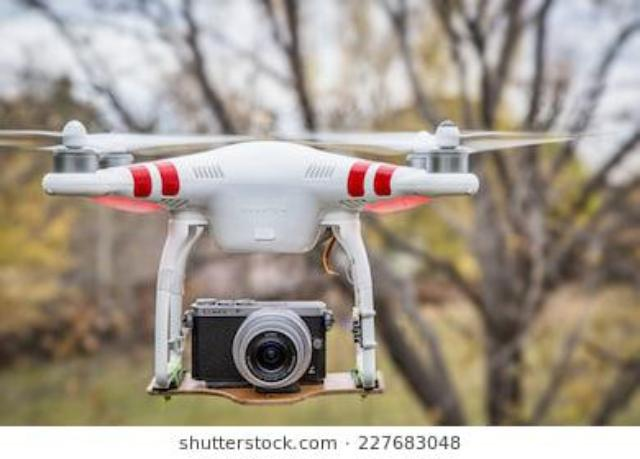drone: (0, 90, 628, 401)
